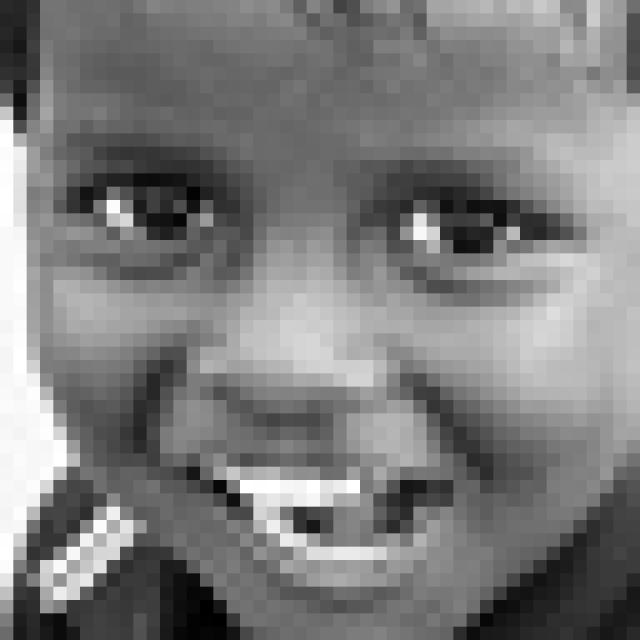happy: (56, 130, 593, 616)
